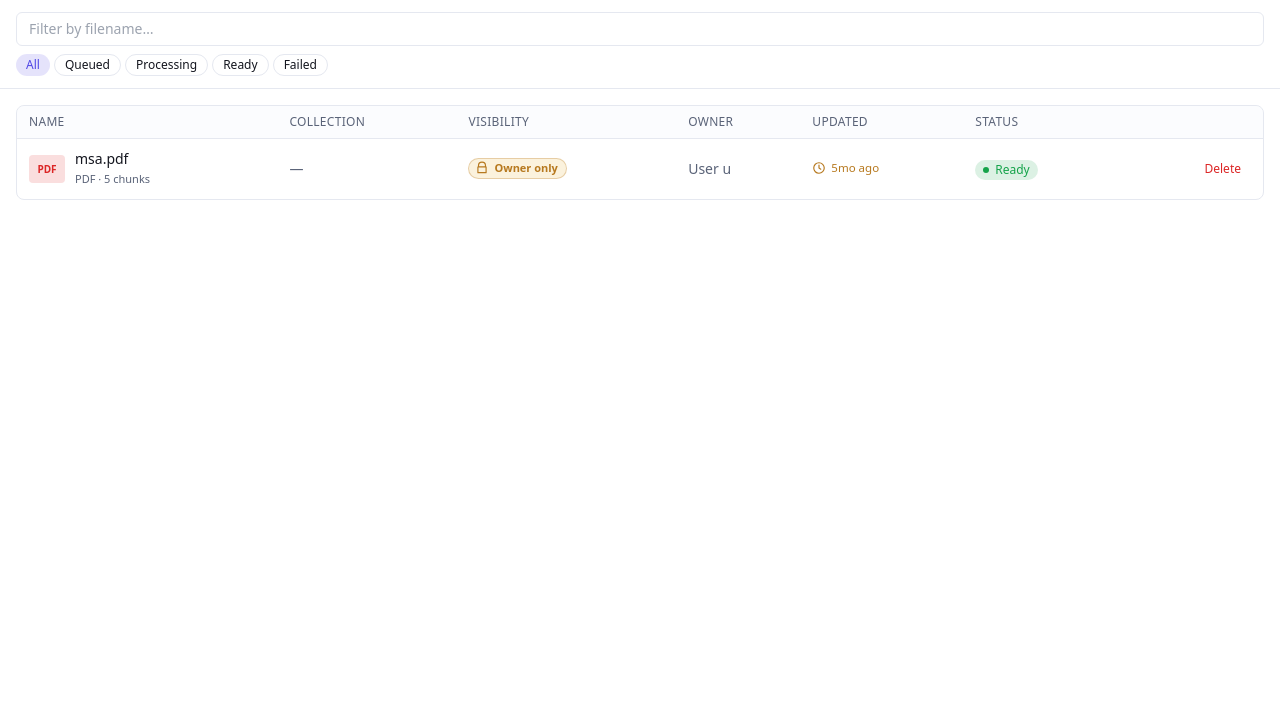
Test: DocumentList › does not open the viewer when opening the delete dialog (action click is isolated)
The image size is (1280, 720).
expect the text "msa.pdf" is shown: met, box [75,149,128,168]
Click the button with aria-label "delete msa.pdf": (1223, 169) [1194,157,1251,181]
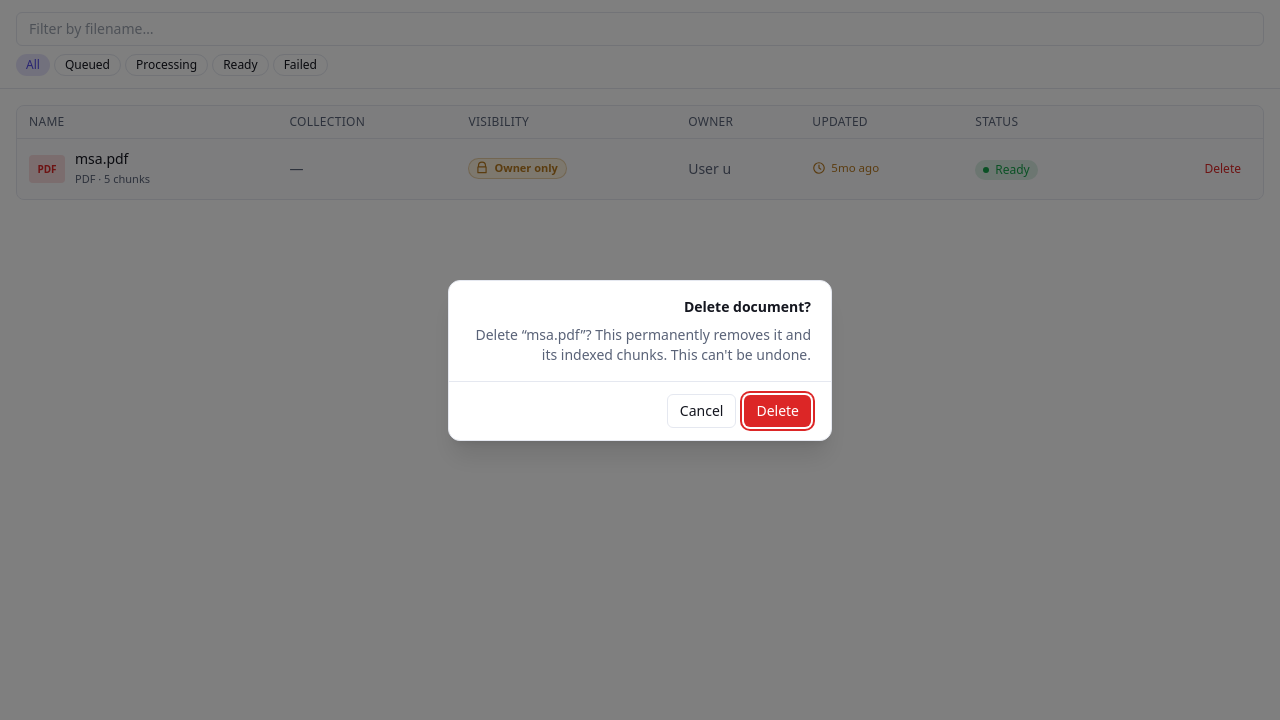
expect the dialog is shown: met
